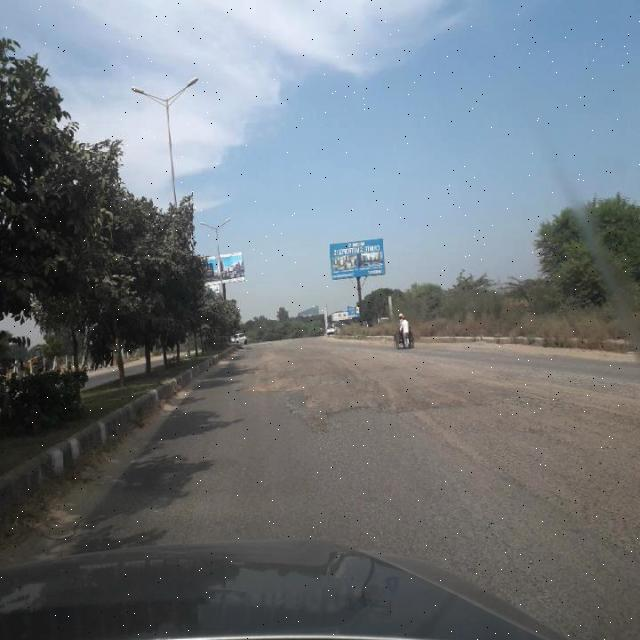D40: (226, 345, 470, 414)
